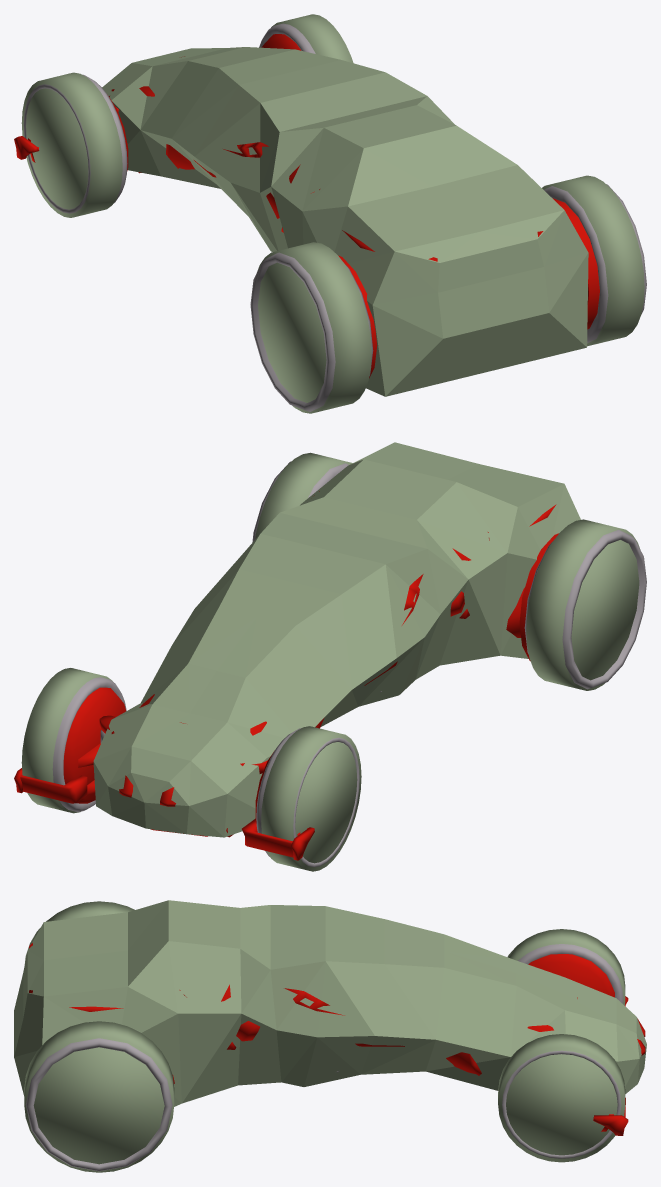
File: car.obj
3 renders of one model, top to bottom at view 1: azimuth 30°, elevation 25°; view 2: azimuth 150°, elevation 25°; view 3: azimuth 270°, elevation 25°, orthographic. The views are drawn at different scales.
Bounding box in the file's own units: 3.65 × 2.24 × 6.98.
